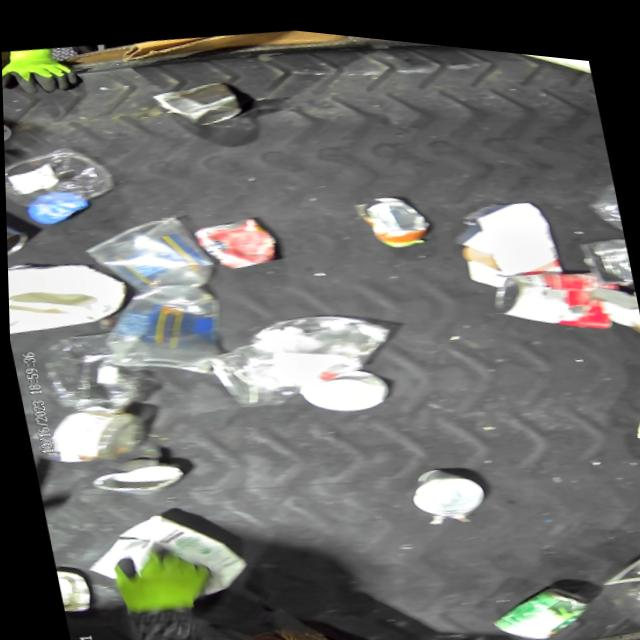can: (483, 244, 623, 337), (480, 564, 590, 640), (147, 67, 243, 132), (189, 203, 278, 273), (83, 449, 184, 504), (352, 178, 430, 248), (402, 451, 484, 514), (572, 218, 633, 279), (5, 213, 28, 264)
milk_jug: (6, 247, 132, 344)
